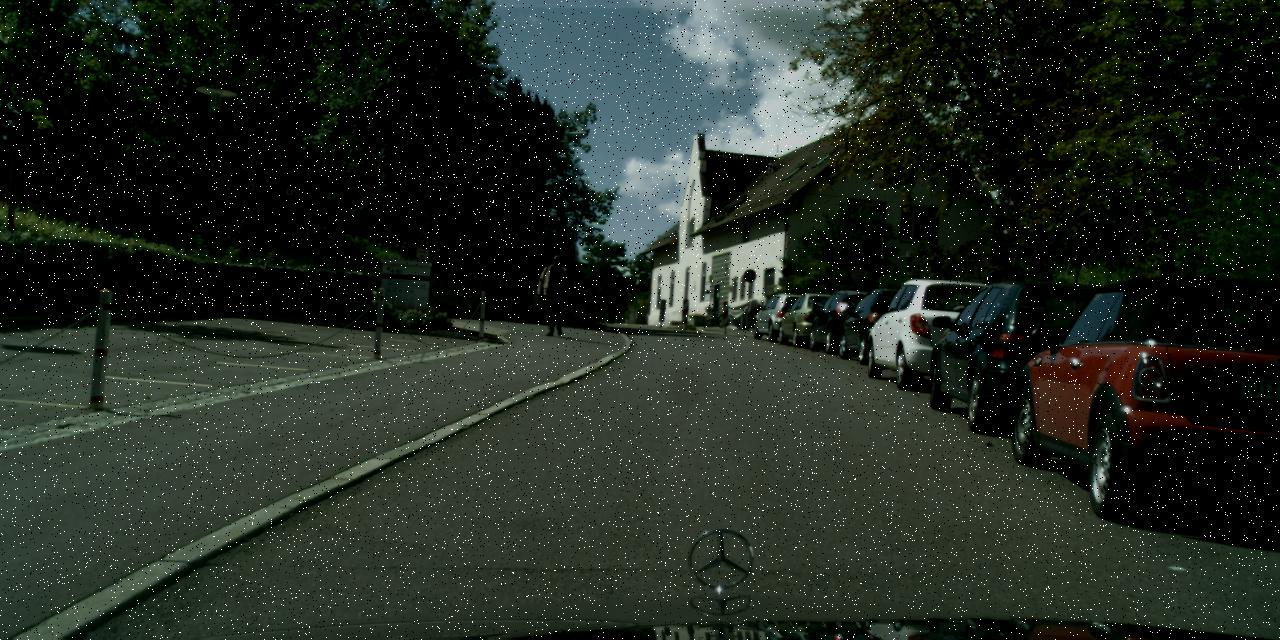ped: (540, 255, 572, 334)
